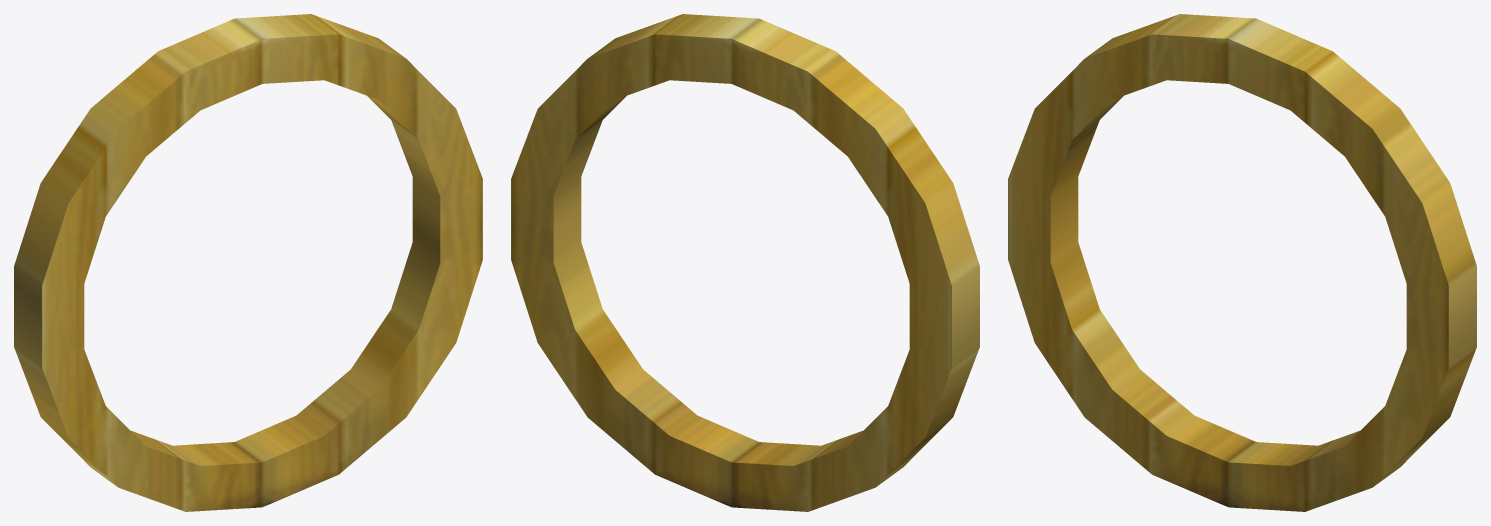
Rendered from HTOWN01_MILLDOORWAY02.fbx.
3 renders of one model, left to right at view 1: azimuth 30°, elevation 25°; view 2: azimuth 150°, elevation 25°; view 3: azimuth 330°, elevation 25°, orthographic.
Visible parts, largest first — view 1: HTOWN01_MILLDOORWAY02; view 2: HTOWN01_MILLDOORWAY02; view 3: HTOWN01_MILLDOORWAY02.
Part boxes in pixels (bbox=[...]): HTOWN01_MILLDOORWAY02: bbox=[14, 14, 482, 511]; HTOWN01_MILLDOORWAY02: bbox=[511, 14, 979, 511]; HTOWN01_MILLDOORWAY02: bbox=[1008, 14, 1476, 511].
Bounding box in the file's own units: 29692 × 30150 × 3244.
Materials: 1 (1 with a texture image).
